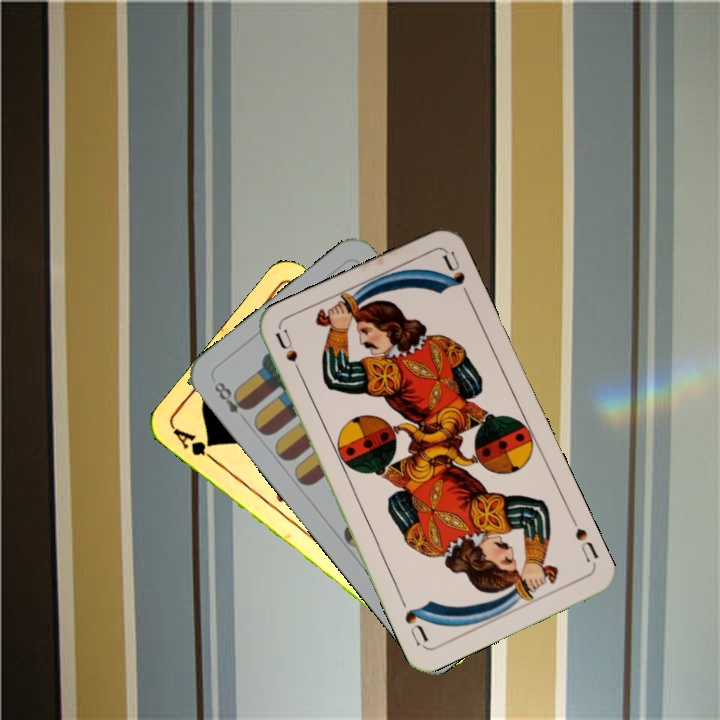E8: (210, 377, 253, 426)
GA: (169, 424, 220, 466)
SU: (271, 326, 307, 384), (571, 524, 601, 565)
